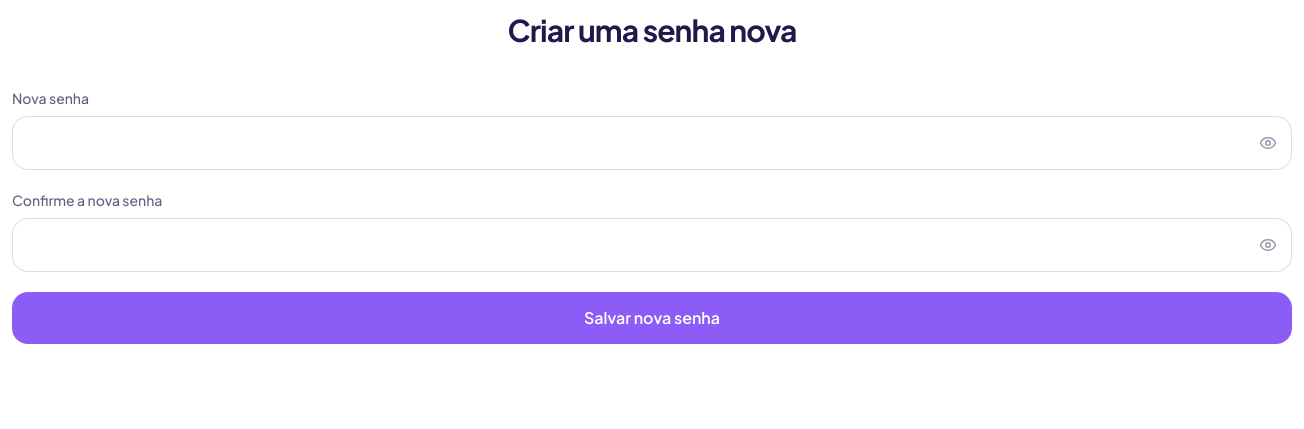
tela de redefinir senha › recusa senha curta sem gastar o token
The width and height of the screenshot is (1304, 429).
Type "curta" into the password field labelled "Nova senha" at [652, 143], box [12,116,1292,170]
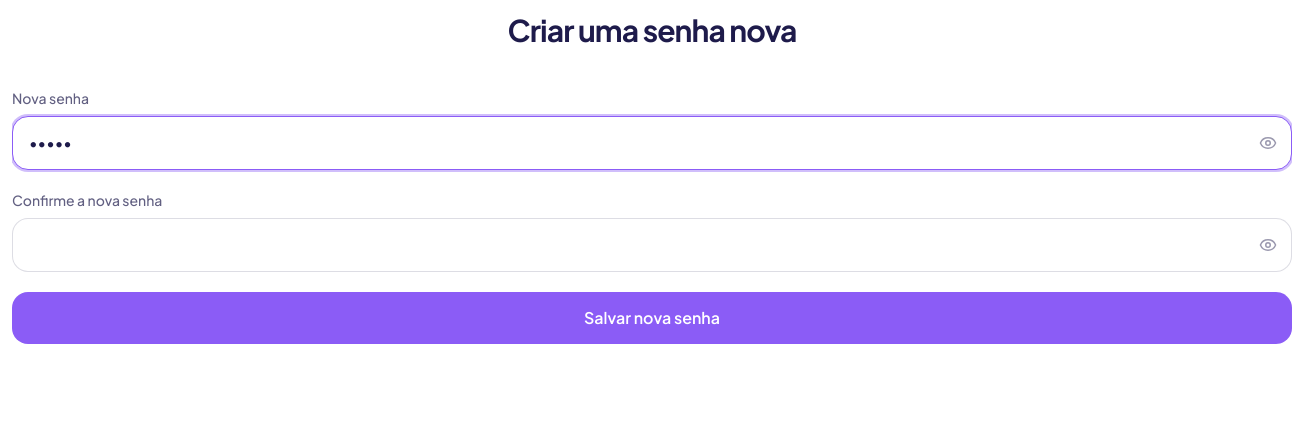
Type "curta" into the password field labelled "Confirme a nova senha" at [652, 245], box [12,218,1292,272]
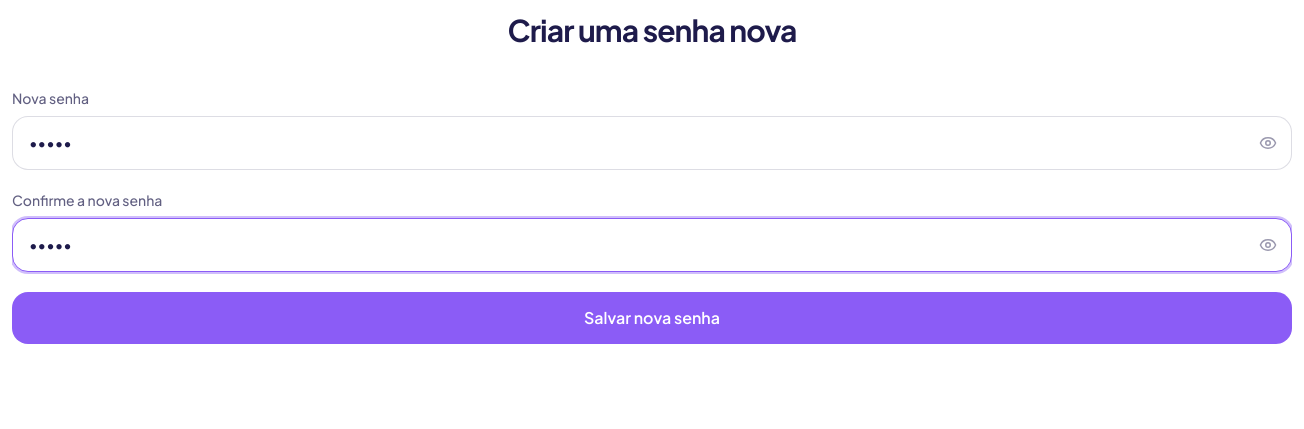
Click the button "Salvar nova senha" at [652, 318], box [12,292,1292,344]
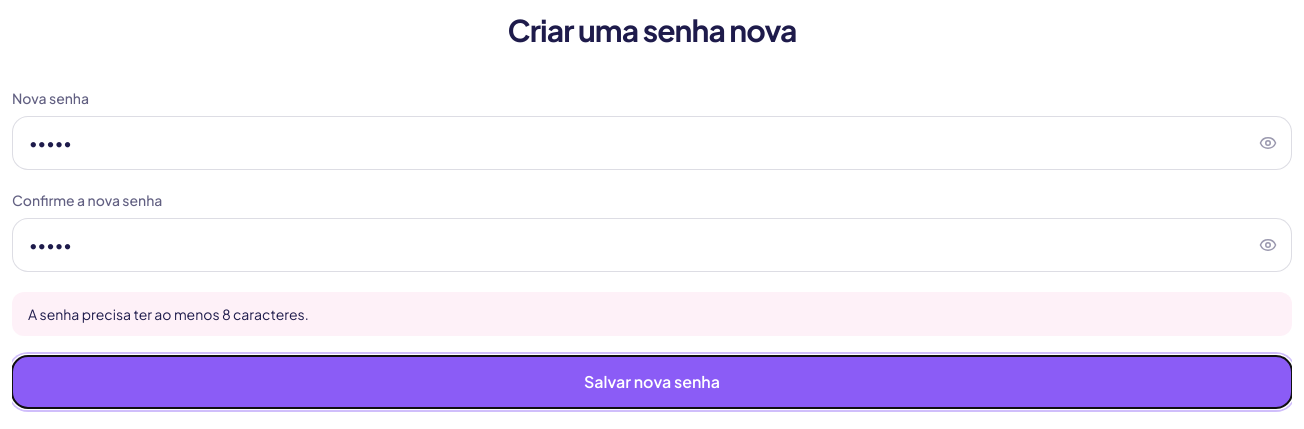
Result: the message shows "8 caracteres" at [28,305,309,323]
